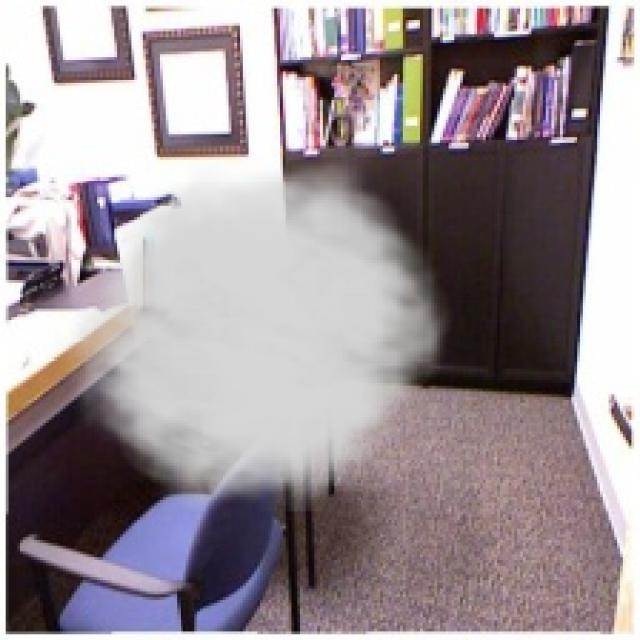smoke: (54, 148, 463, 512)
